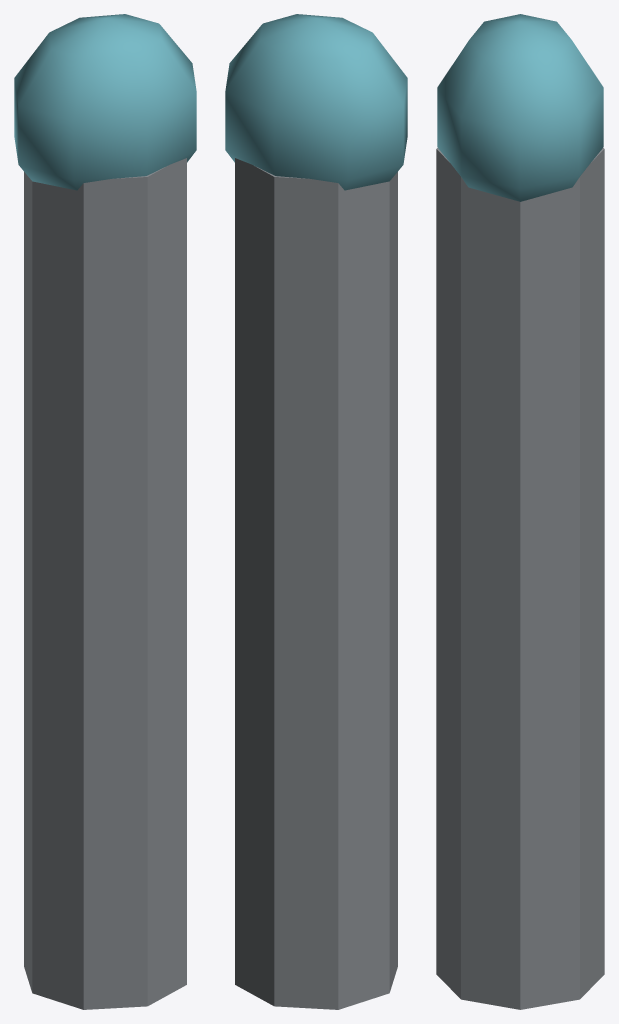
File: poi_pillar_cyan.glb
The picture shows the model from 3 angles, left to right: view 1: azimuth 30°, elevation 25°; view 2: azimuth 150°, elevation 25°; view 3: azimuth 270°, elevation 25°; orthographic projection.
Visible parts, largest first — view 1: poi_pillar_cyan_root; view 2: poi_pillar_cyan_root; view 3: poi_pillar_cyan_root.
Boxes of the visible parts, x1,y1,x2,y2 form: poi_pillar_cyan_root: (14, 14, 196, 1009); poi_pillar_cyan_root: (225, 14, 407, 1009); poi_pillar_cyan_root: (436, 14, 604, 1009).
Bounding box in the file's own units: 0.5326 × 2.8 × 0.448.
